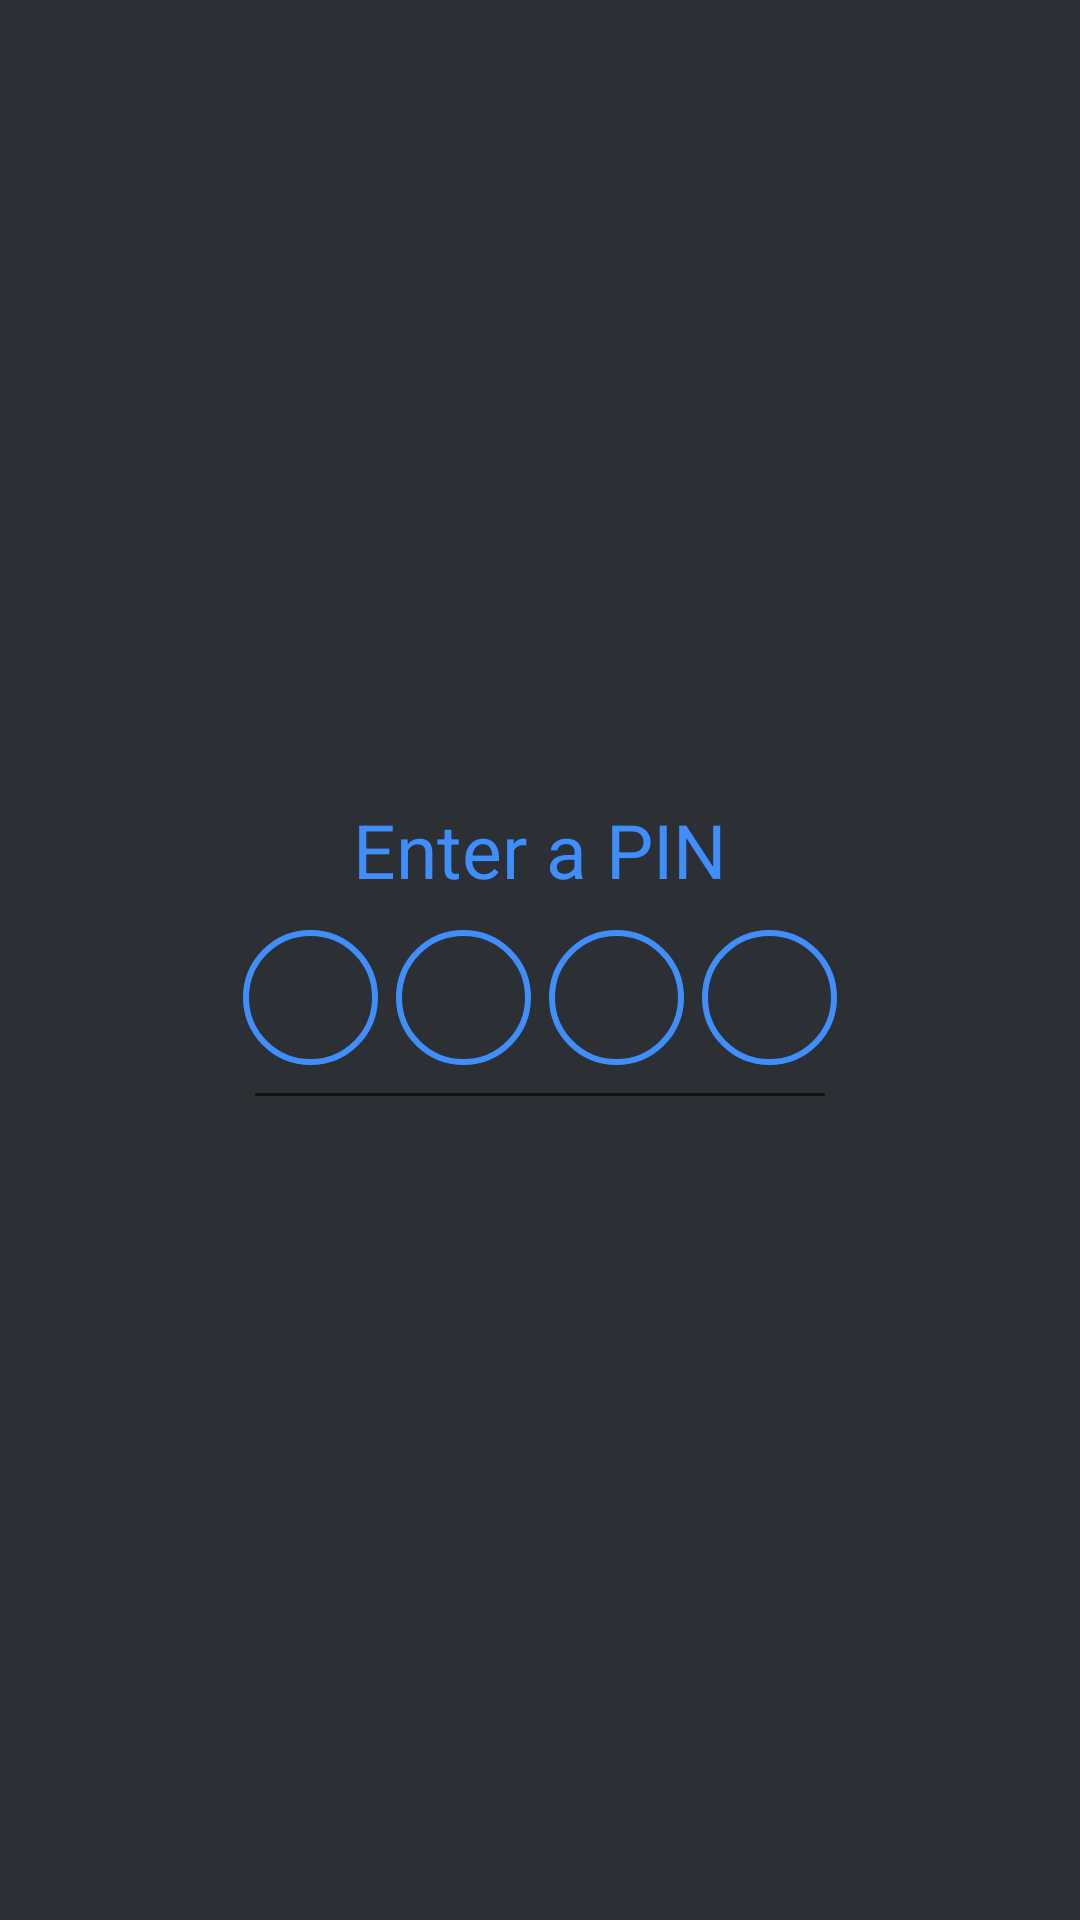

Icons on this 1080x1920 Android screen, each with its box as [x1,y1,x2,y2]:
circle: [243,930,378,1065], [396,930,531,1065], [549,930,684,1065], [702,930,837,1065]
